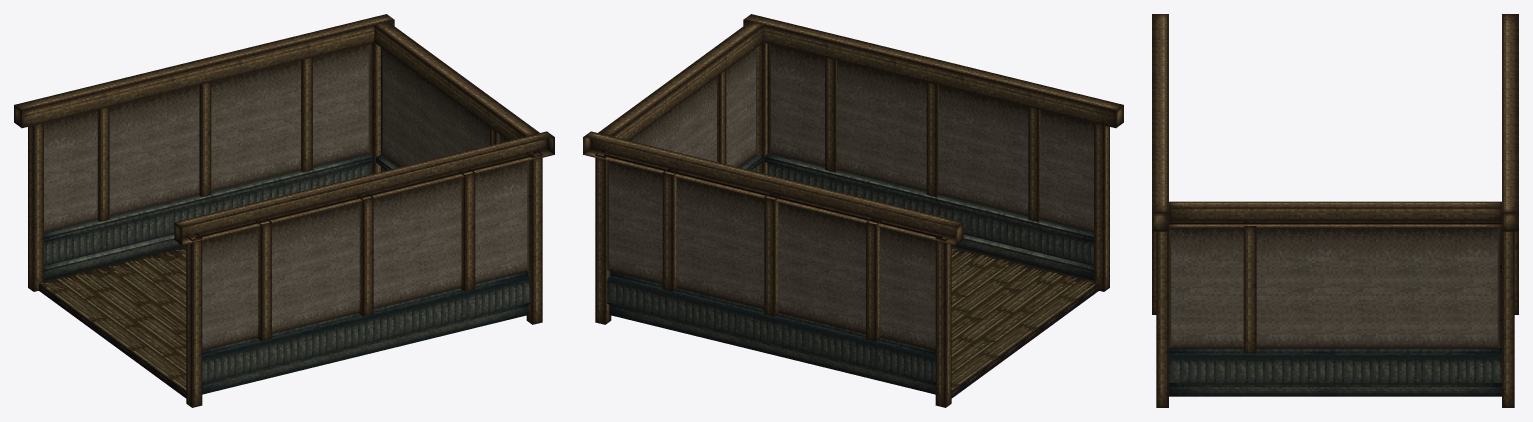
File: EnvBdgMD_WoodHouse_A_Indoor_House_A.FBX
3 renders of one model, left to right at view 1: azimuth 30°, elevation 25°; view 2: azimuth 150°, elevation 25°; view 3: azimuth 270°, elevation 25°, orthographic. The views are drawn at different scales.
Parts seen in each view (by area): view 1: EnvBdgMD_WoodHouse_A_Indoor_House_A; view 2: EnvBdgMD_WoodHouse_A_Indoor_House_A; view 3: EnvBdgMD_WoodHouse_A_Indoor_House_A.
Part boxes in pixels (x1,y1,x2,y2): EnvBdgMD_WoodHouse_A_Indoor_House_A: (14,14,554,407); EnvBdgMD_WoodHouse_A_Indoor_House_A: (583,14,1123,407); EnvBdgMD_WoodHouse_A_Indoor_House_A: (1152,14,1518,407).
Size of the model in its own units: 1100 by 520 by 860.
Materials: 1 (1 with a texture image).
